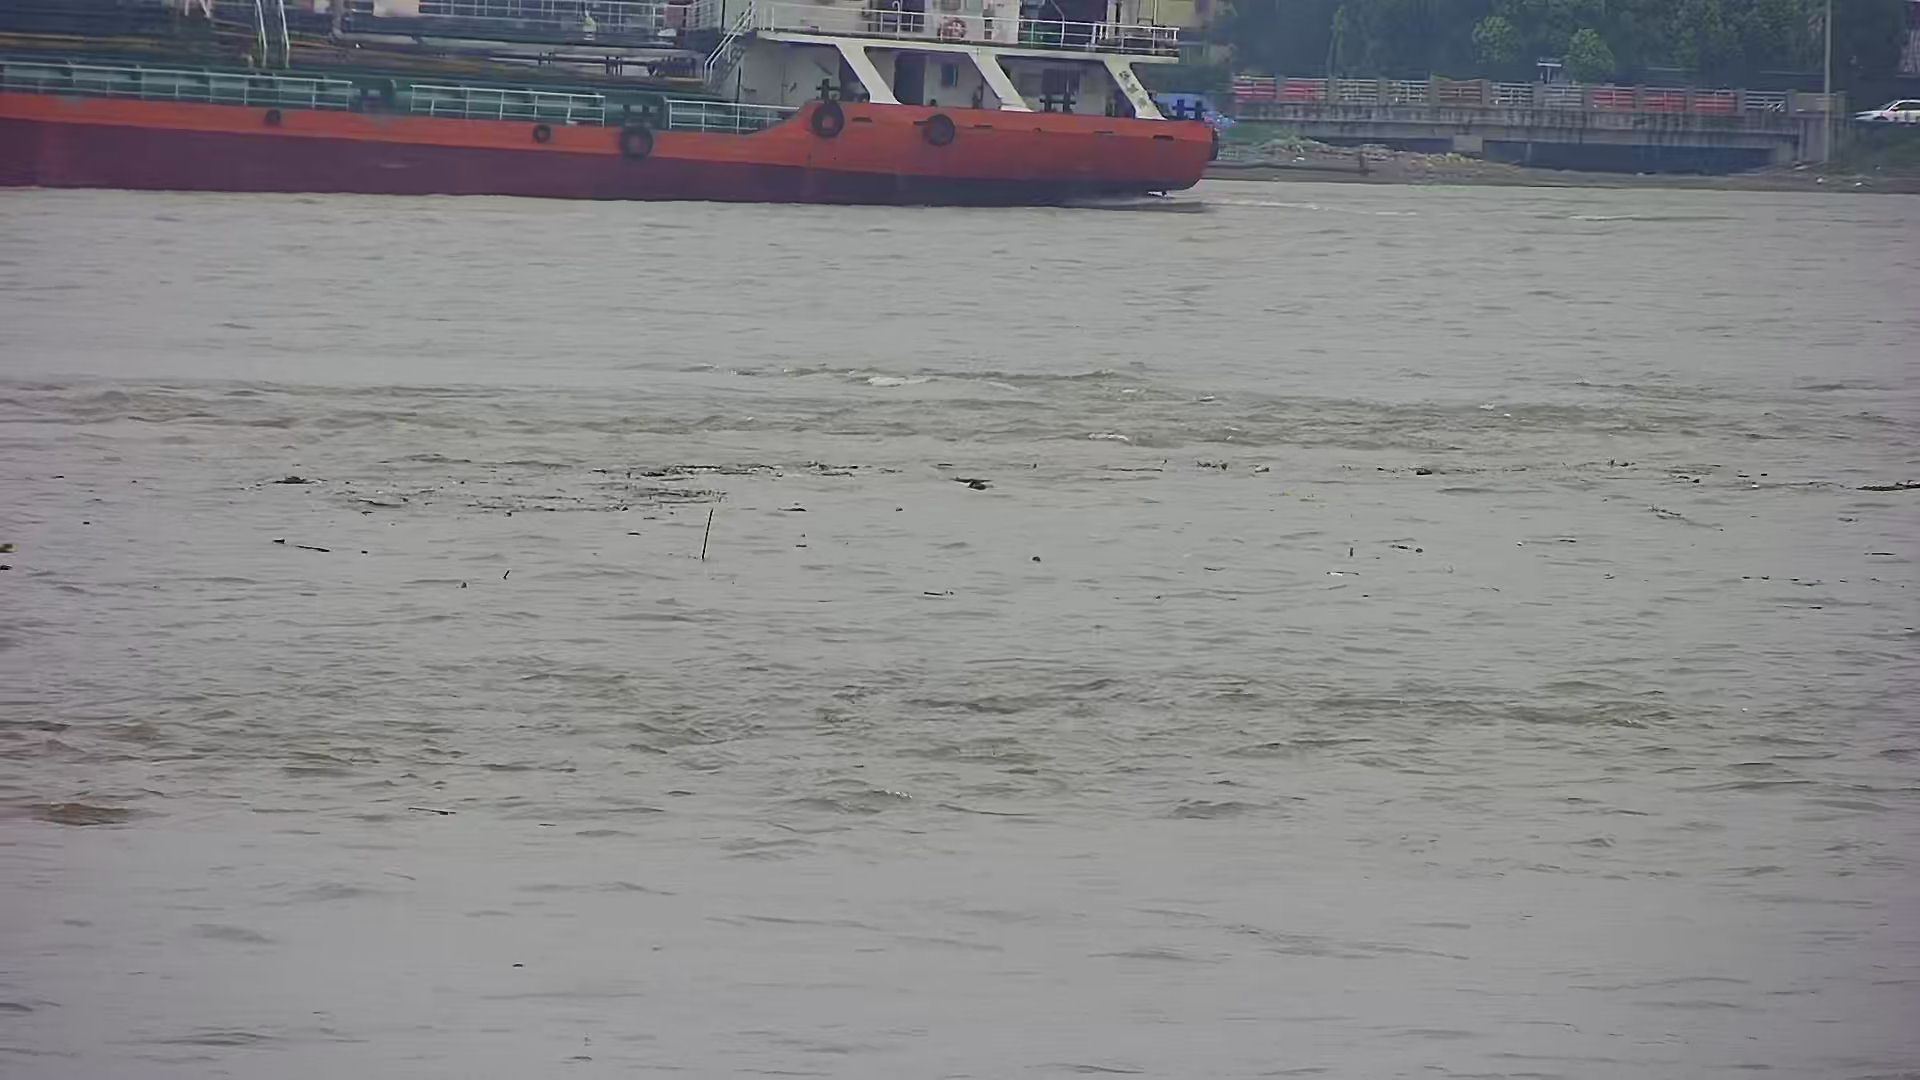ship: (3, 3, 1221, 216)
